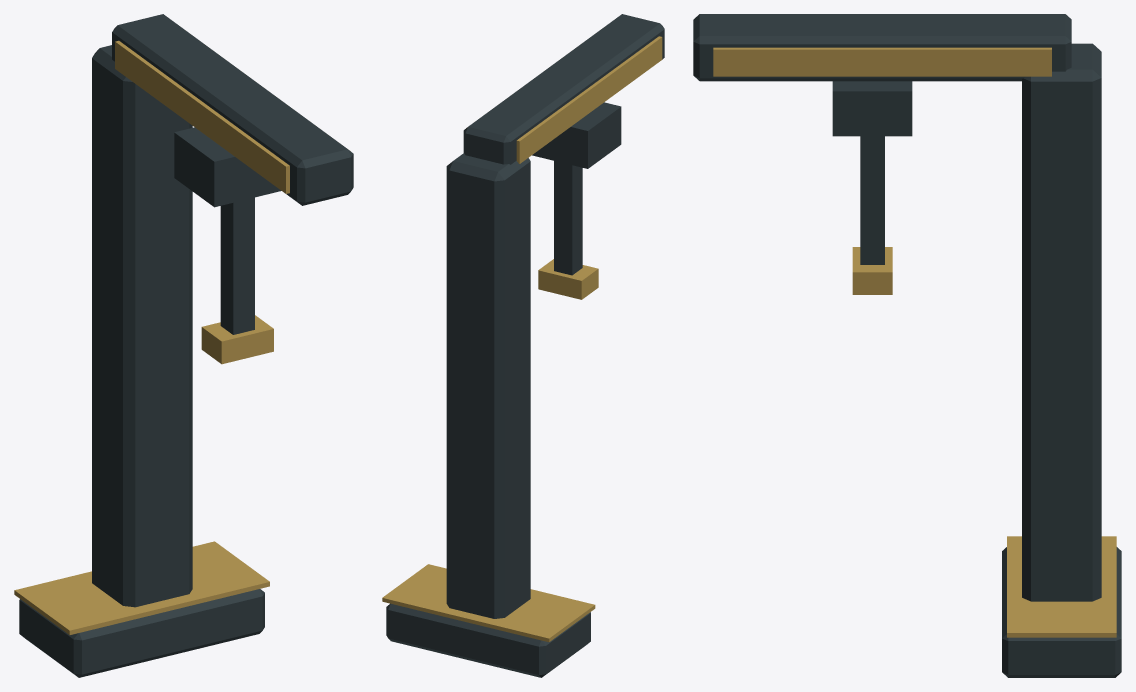
File: hookup-crane-lod0.0795b19b9be5.glb
The picture shows the model from 3 angles, left to right: view 1: azimuth 30°, elevation 25°; view 2: azimuth 150°, elevation 25°; view 3: azimuth 270°, elevation 25°; orthographic projection. The views are drawn at different scales.
Parts seen in each view (by area): view 1: body, trolley; view 2: body, trolley; view 3: body, trolley.
Boxes of the visible parts, left/top/right/bottom form: body: left=14, top=14, right=353, bottom=677; trolley: left=174, top=127, right=281, bottom=364; body: left=382, top=14, right=664, bottom=677; trolley: left=532, top=102, right=621, bottom=299; body: left=693, top=14, right=1121, bottom=677; trolley: left=832, top=81, right=912, bottom=294.
Bounding box in the file's own units: 0.46 × 1.35 × 0.86.
